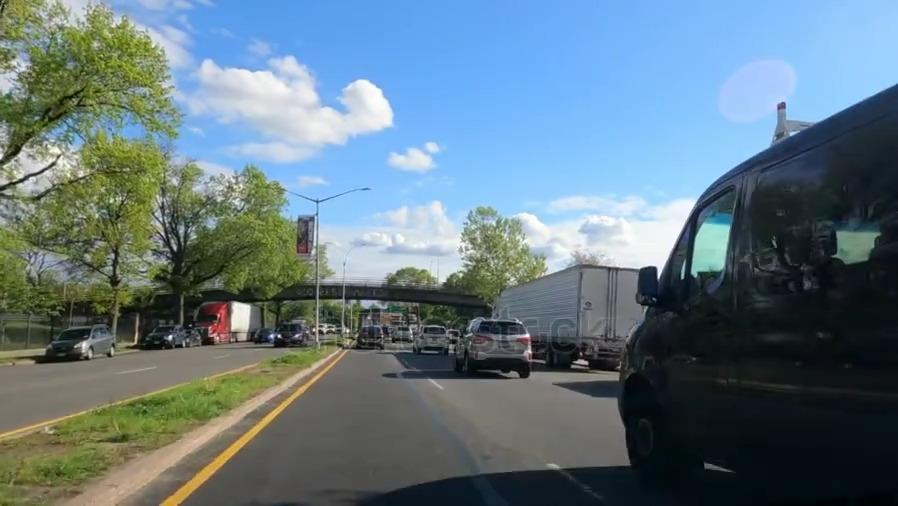car: (460, 314, 535, 375), (49, 322, 117, 367), (146, 323, 189, 352), (418, 323, 449, 355), (278, 321, 310, 348), (356, 325, 387, 351), (255, 327, 277, 344), (393, 325, 412, 341), (186, 327, 198, 344)
truck: (502, 263, 645, 357), (196, 303, 263, 344)
van: (649, 88, 896, 506)
wheel: (618, 383, 672, 475)
